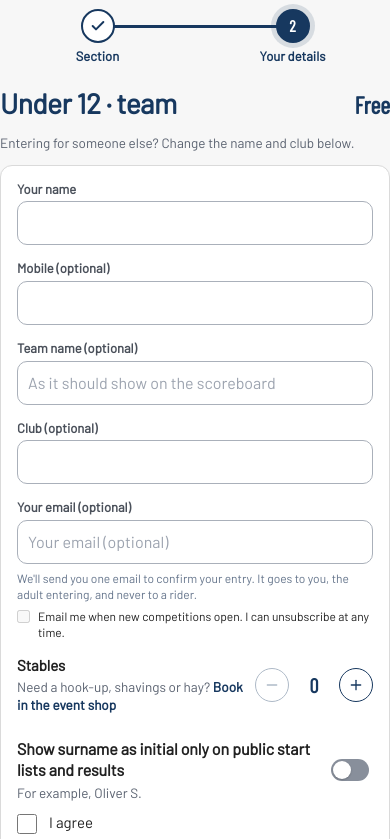
Test: demo events › does not send a free demo entry to the test page
The width and height of the screenshot is (390, 839).
Type "Ann Rider" into the field labelled "Your name" at (195, 224), box [17, 202, 373, 246]
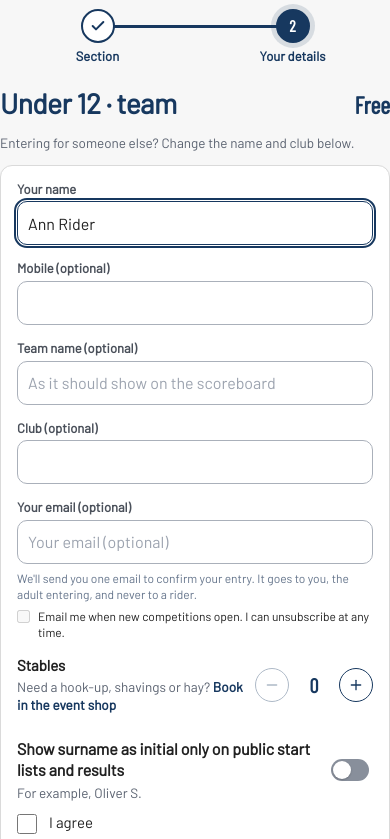
Click the checkbox labelled "I agree" at (27, 824), box [17, 814, 37, 834]
(page scrolled)
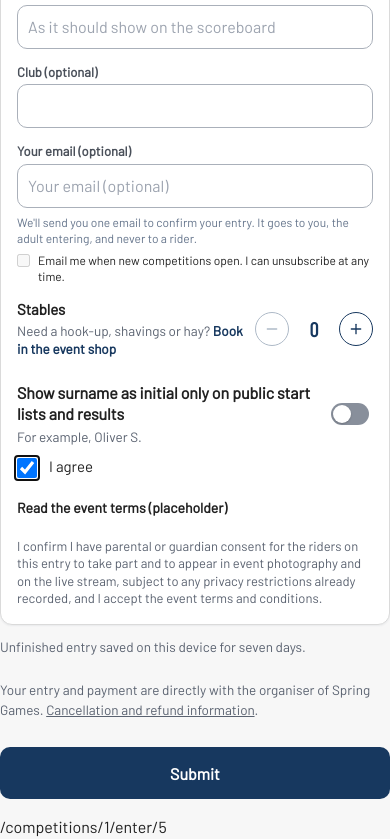
Click the button "Submit" at (195, 773), box [0, 747, 389, 799]
(page scrolled)
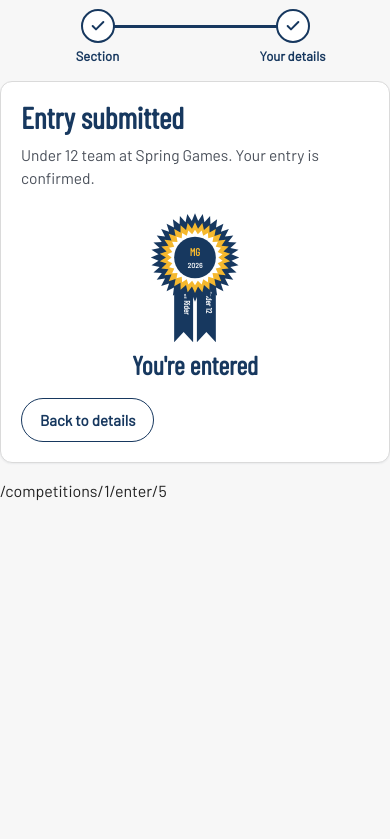
Expected: the text "Under 12 team at Spring Games. Your entry is confirmed." is shown, [21, 143, 369, 189]
